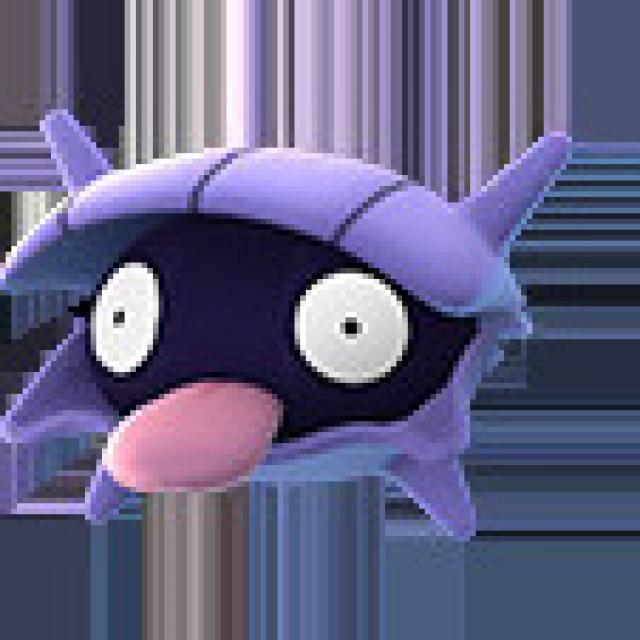Shellder: (0, 109, 566, 532)
